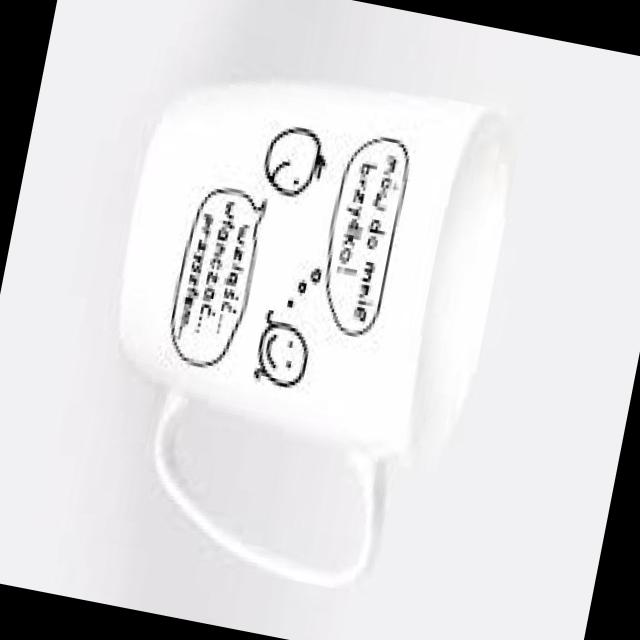Coffee Mug: (64, 46, 524, 608)
